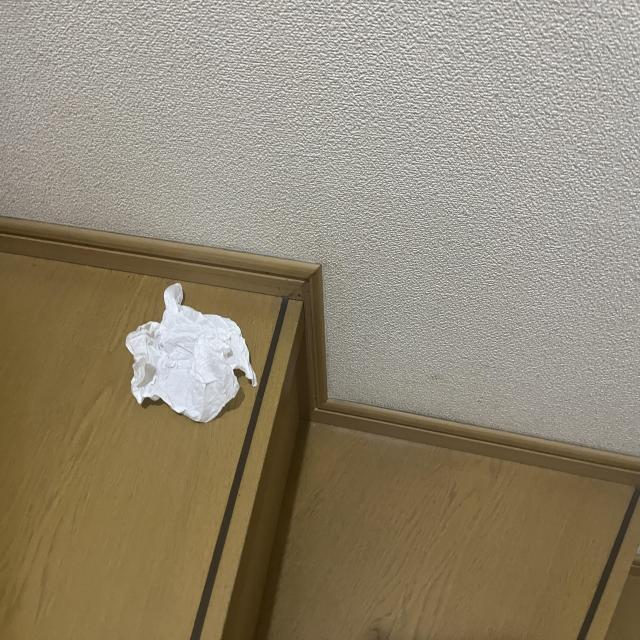Paper: (112, 273, 268, 423)
